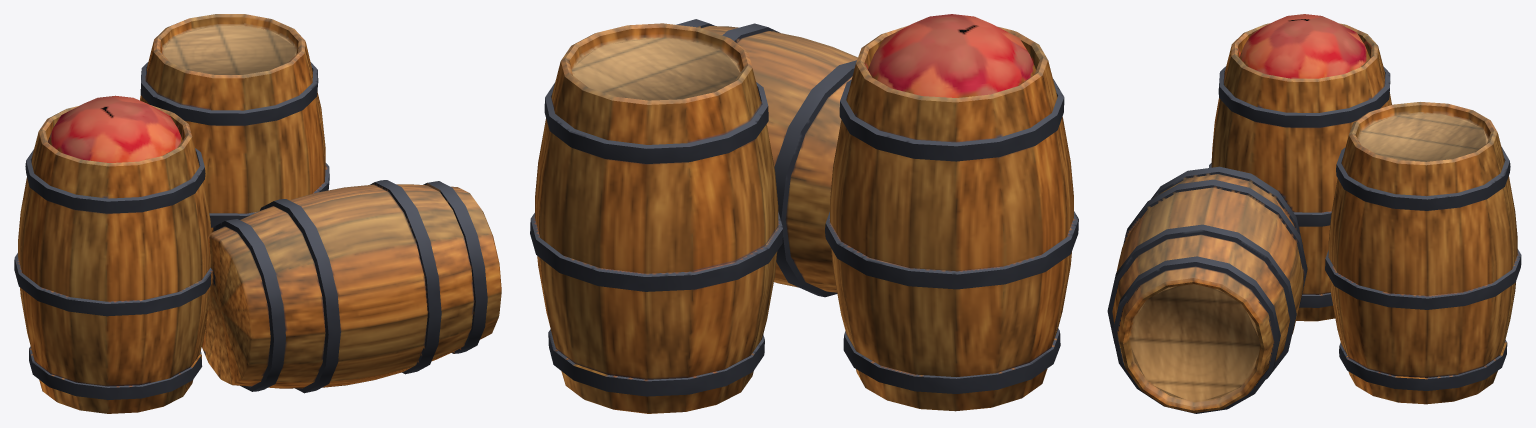
The model's file is barrel_stack.glb.
3 renders of one model, left to right at view 1: azimuth 30°, elevation 25°; view 2: azimuth 150°, elevation 25°; view 3: azimuth 270°, elevation 25°, orthographic. The views are drawn at different scales.
Visible parts, largest first — view 1: barrel_stack_game; view 2: barrel_stack_game; view 3: barrel_stack_game.
Part boxes in pixels (x1,y1,x2,y2): barrel_stack_game: [14, 14, 501, 413]; barrel_stack_game: [530, 14, 1078, 413]; barrel_stack_game: [1107, 14, 1521, 413].
Size of the model in its own units: 1.48 by 1 by 1.4.
Materials: 1 (1 with a texture image).
